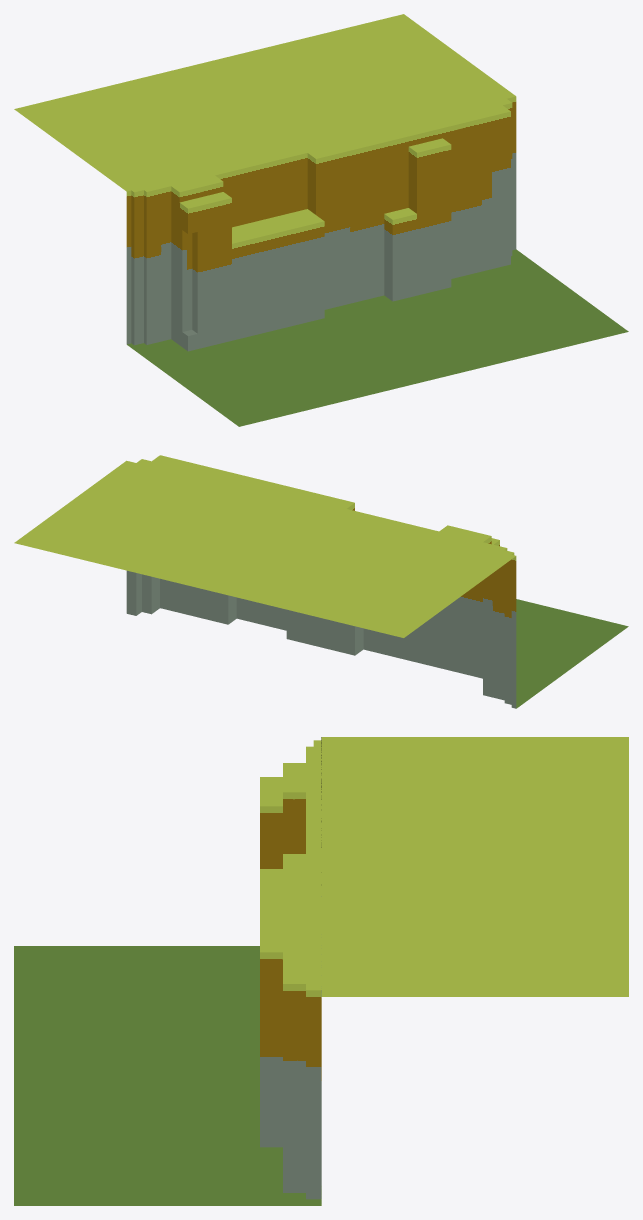
File: MMLL(1).glb
3 renders of one model, top to bottom at view 1: azimuth 30°, elevation 25°; view 2: azimuth 150°, elevation 25°; view 3: azimuth 270°, elevation 25°, orthographic. The views are drawn at different scales.
Parts seen in each view (by area): view 1: model_0.014; view 2: model_0.014; view 3: model_0.014.
Boxes of the visible parts, x1,y1,x2,y2 form: model_0.014: (14, 14, 628, 426); model_0.014: (14, 455, 628, 708); model_0.014: (14, 737, 628, 1205).
Bounding box in the file's own units: 80 × 30 × 80.
Materials: 1 (1 with a texture image).
